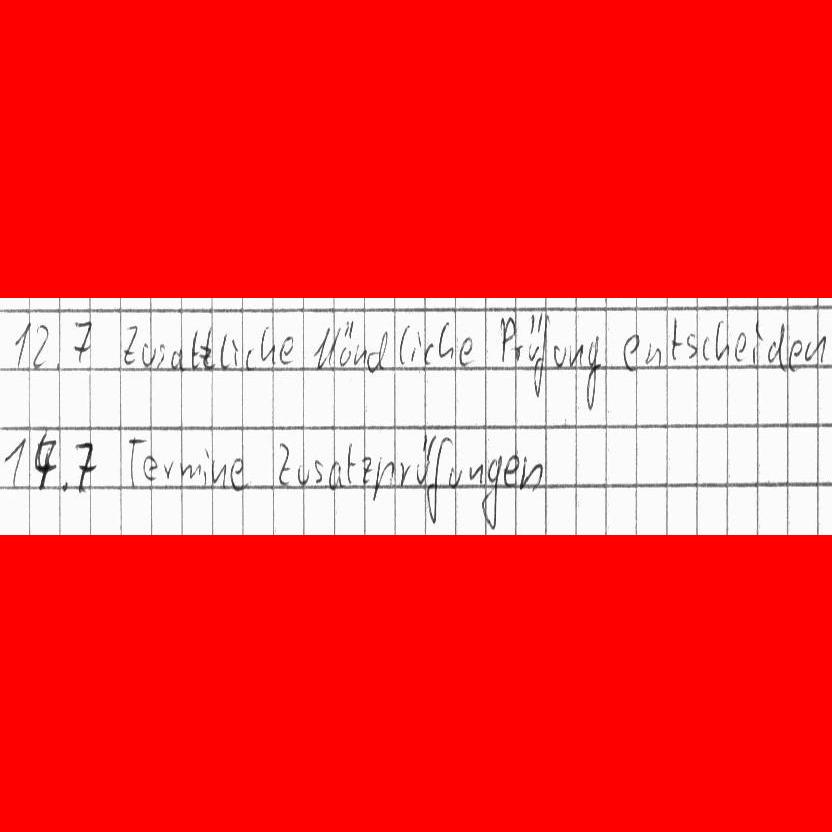Char: (425, 436, 448, 526), (72, 436, 98, 495), (481, 455, 501, 531), (584, 332, 603, 410), (33, 433, 57, 489), (530, 316, 546, 400), (414, 433, 436, 488), (365, 326, 390, 373), (312, 324, 338, 369), (1, 435, 26, 480), (127, 434, 147, 489), (10, 319, 32, 368), (371, 456, 394, 501), (71, 320, 93, 362), (497, 313, 514, 366), (32, 322, 52, 367), (519, 457, 542, 494), (120, 323, 139, 366), (200, 324, 216, 371), (620, 330, 639, 369), (276, 439, 292, 485), (807, 331, 828, 366), (339, 318, 353, 368), (438, 319, 453, 364), (258, 325, 275, 364), (714, 321, 730, 361), (220, 334, 236, 371), (771, 330, 787, 366), (514, 321, 528, 362), (190, 329, 204, 369), (457, 335, 473, 370), (502, 454, 519, 486), (669, 319, 681, 363), (143, 343, 163, 369), (445, 464, 465, 489), (278, 333, 293, 366), (398, 324, 410, 365), (230, 459, 245, 491), (345, 441, 357, 480), (395, 458, 411, 487), (734, 330, 748, 363), (568, 342, 585, 369), (644, 342, 663, 366), (327, 459, 342, 489), (142, 454, 158, 481), (308, 458, 324, 485), (213, 460, 229, 486), (169, 346, 185, 372), (683, 331, 697, 360), (790, 337, 803, 368), (410, 330, 422, 363), (552, 343, 567, 369), (199, 451, 211, 483), (753, 322, 763, 359), (241, 345, 255, 371), (422, 343, 437, 367), (360, 455, 371, 487), (699, 334, 712, 361), (295, 463, 309, 488), (160, 458, 175, 481), (179, 461, 196, 481), (467, 463, 483, 484), (353, 342, 367, 366), (59, 479, 69, 493)
